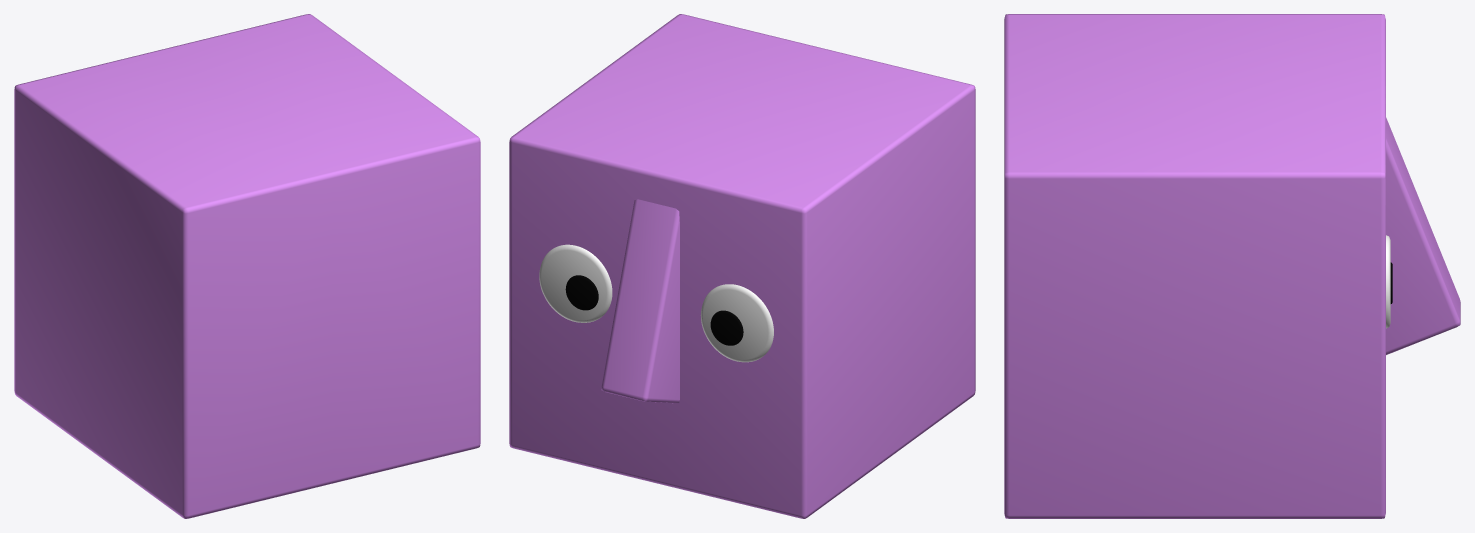
The model's file is mtplex-lad.fbx.
3 renders of one model, left to right at view 1: azimuth 30°, elevation 25°; view 2: azimuth 150°, elevation 25°; view 3: azimuth 270°, elevation 25°, orthographic. The views are drawn at different scales.
Visible parts, largest first — view 1: Cube.001; view 2: Cube.001; view 3: Cube.001.
Boxes of the visible parts, box(x1,y1,x2,y2) form: Cube.001: box(14, 14, 480, 518); Cube.001: box(509, 14, 975, 518); Cube.001: box(1004, 14, 1460, 518).
Bounding box in the file's own units: 0.5 × 0.5 × 0.5981.
